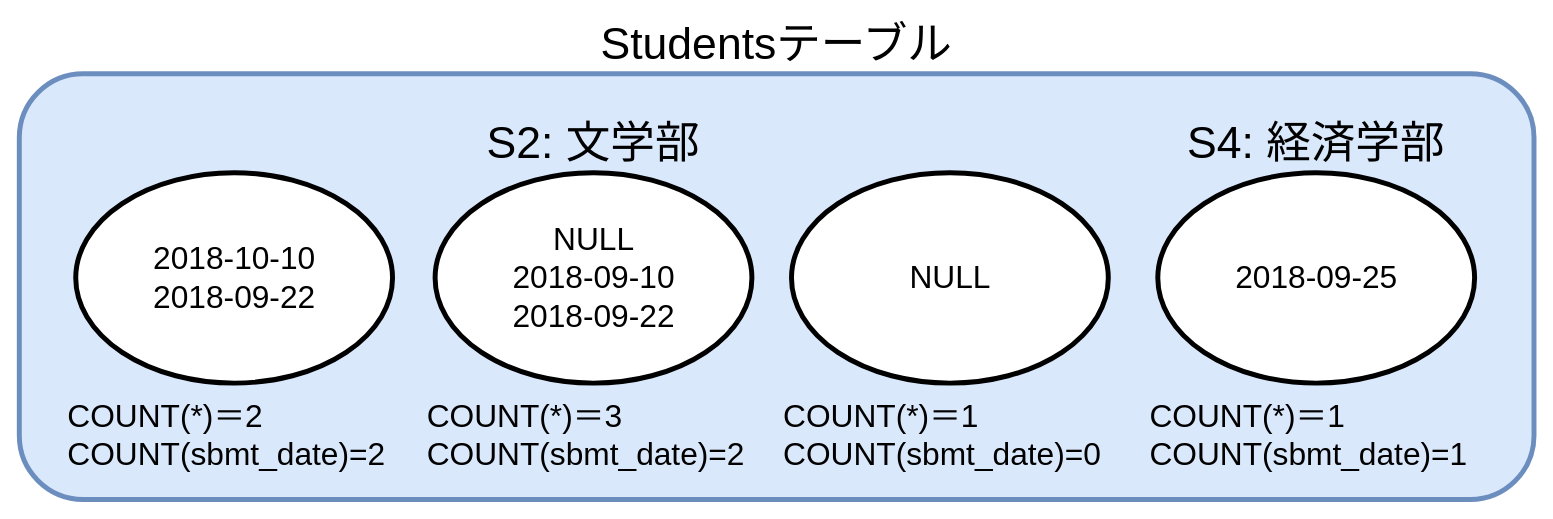
Image size: 1553x519. Some labels were removed from this diagram. The shapes that lost their labels are listed below. From the top down, each one's box as (x1, y1, x2, y2) in pixels, then its label:
(73, 170, 395, 385): S1: 理学部
(789, 170, 1110, 385): S3: 工学部
